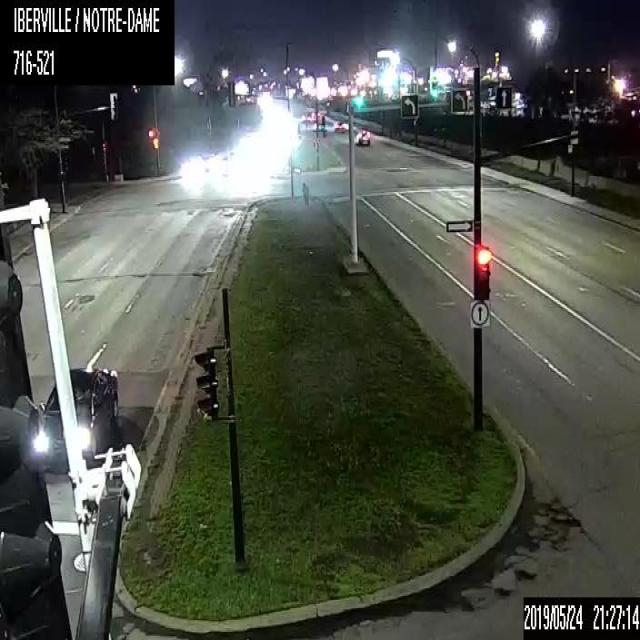pedestrian: (301, 180, 309, 208)
vehicle: (34, 369, 119, 474), (354, 129, 370, 146), (333, 119, 346, 133)
